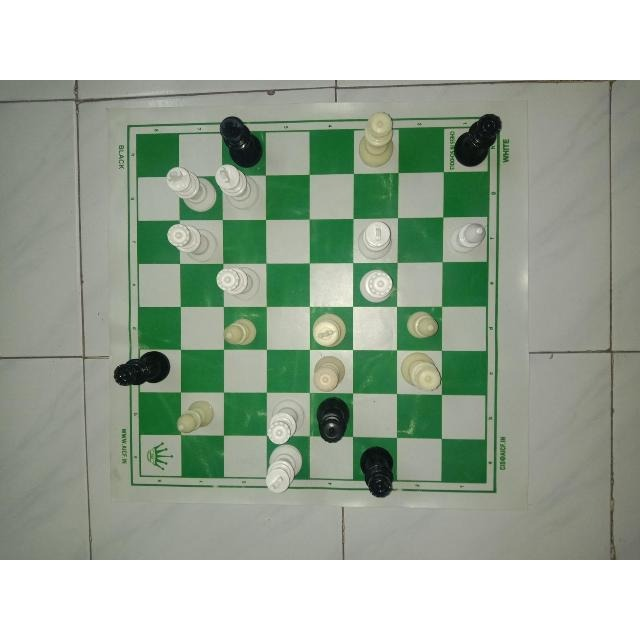black-king: (215, 112, 267, 169)
black-queen: (452, 109, 507, 167), (352, 435, 397, 504), (113, 351, 174, 396), (309, 400, 353, 448)
white-bishop: (219, 310, 263, 354), (173, 397, 217, 440), (448, 216, 495, 254), (405, 309, 444, 348)
white-king: (158, 162, 220, 216), (215, 160, 260, 214), (263, 444, 302, 496), (358, 217, 400, 265), (308, 314, 349, 354)
white-queen: (166, 218, 216, 268), (358, 111, 398, 168), (212, 264, 270, 302), (399, 353, 447, 397), (265, 400, 305, 448), (306, 353, 350, 395), (355, 267, 397, 306)
